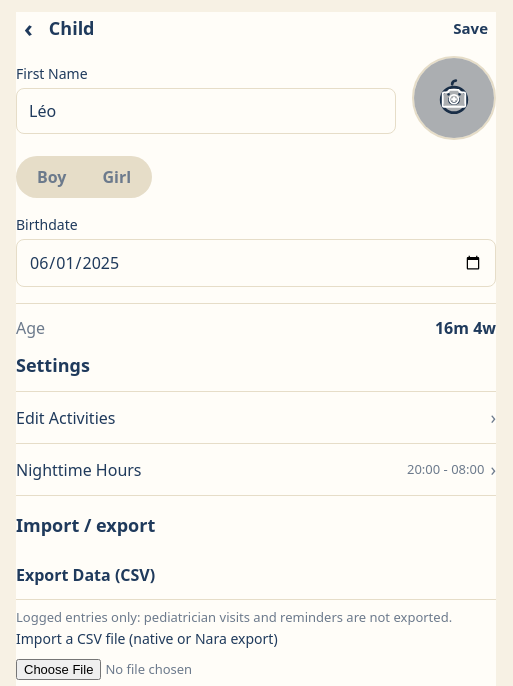
Test case: ChildPage › stays on the profile and says so when it cannot be saved
Click the button "Save".
click(471, 28)  # box [445, 16, 496, 40]
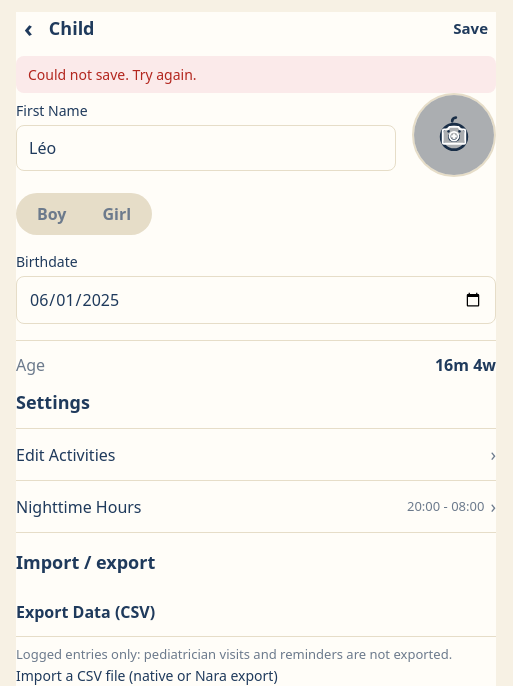
Expected: the message reads "Could not save. Try again.", [28, 65, 197, 84]
